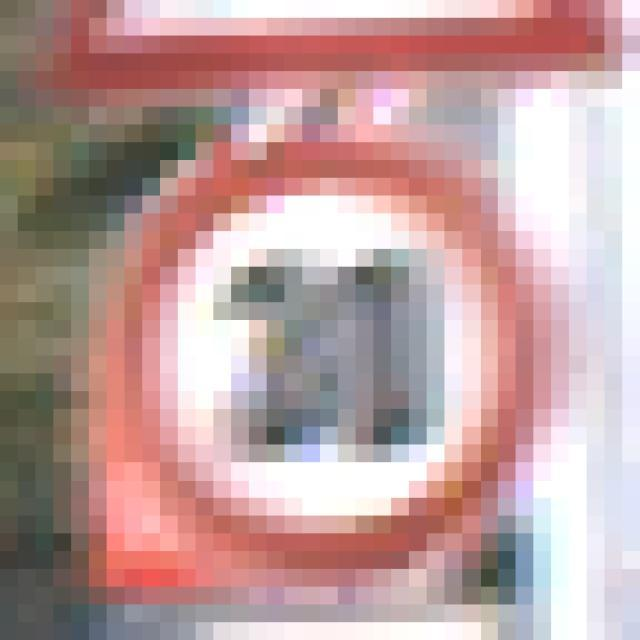Speed Limit -30-: (80, 80, 524, 524)
